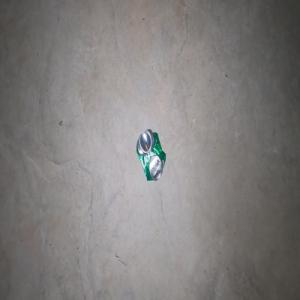SodaCan: (136, 128, 165, 180)
